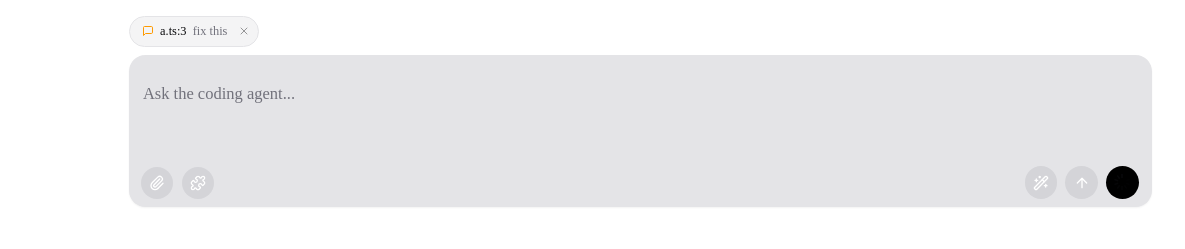
AgentCodeChat mid-turn submit validation (US8) › blocks a mid-turn submit with pending file comments: precise error, draft preserved
Type "steer a bit" into the text box with test id "chat-input" at (640, 102), box [130, 65, 1150, 139]
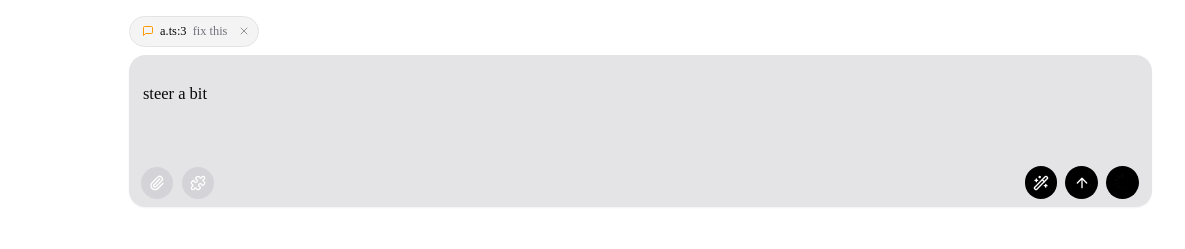
Submit the form with test id "chat-input"
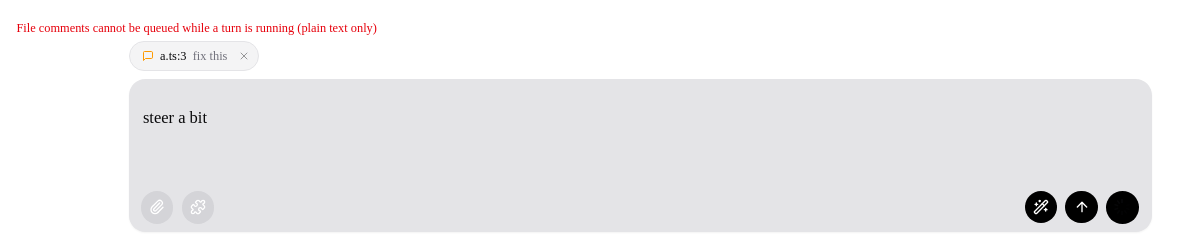
Expected: the message reads "File comments cannot be queued while a turn is running (plain text only)", [16, 21, 377, 35]
